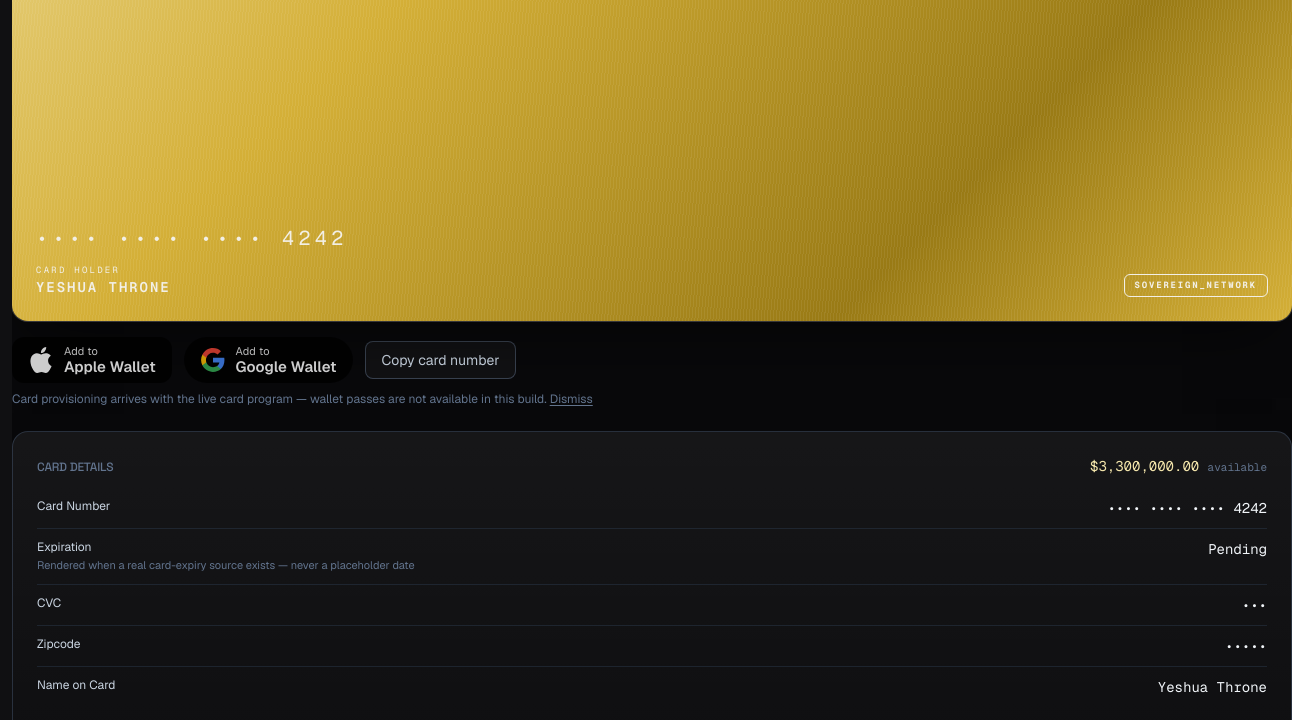
Test: GoldNote actions — honest interactivity › non-pending state: copies the masked number to the clipboard and shows Copied
(page scrolled)
What coordinates should you click on to do the following:
click the button with test id "goldnote-copy-number"
I would click on:
 (440, 360)
Its box is [364, 341, 516, 379].
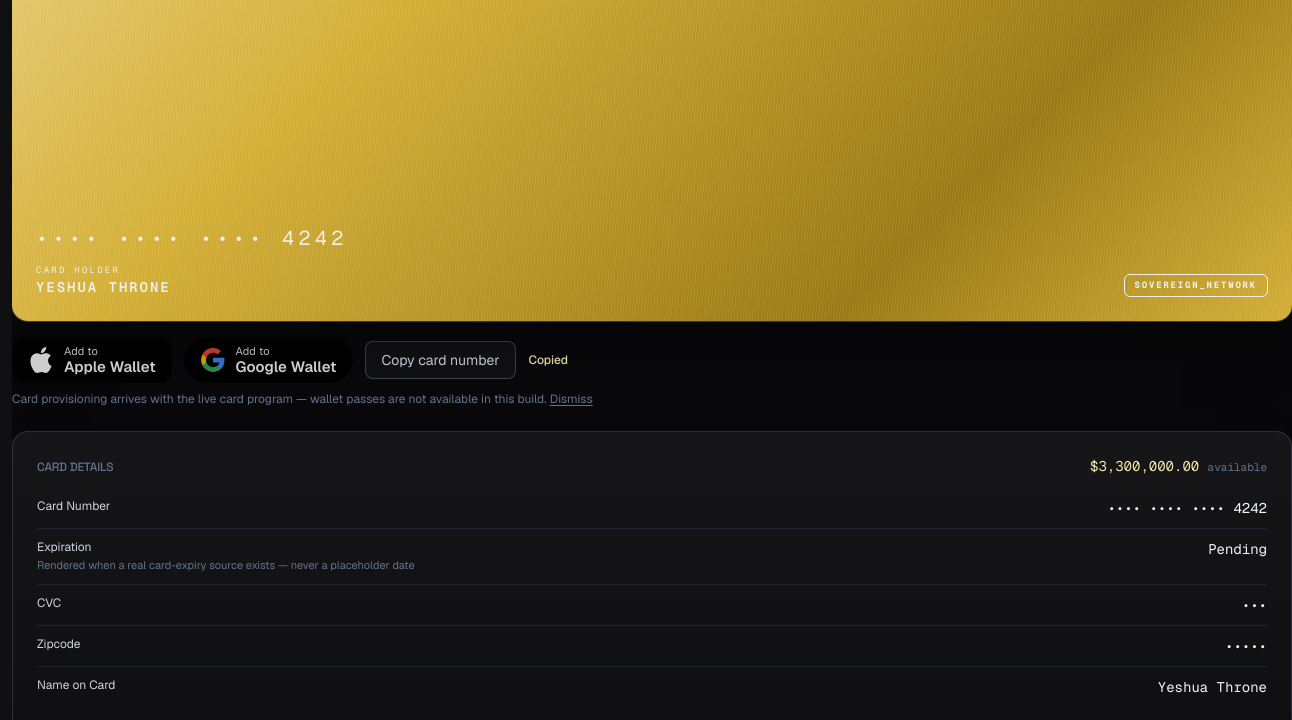
Expected: the message with test id "goldnote-copy-feedback" reads "Copied", [528, 352, 568, 368]
